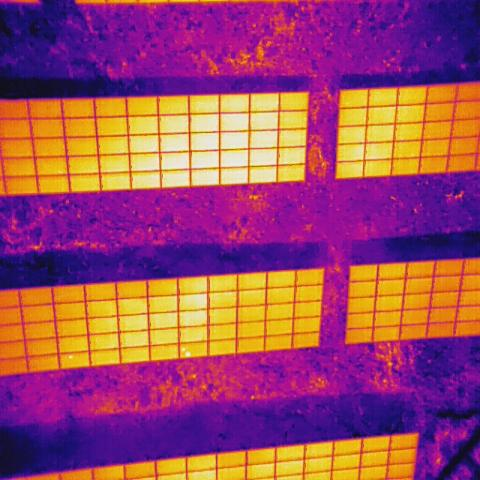fault: (64, 351, 80, 363), (180, 345, 186, 353), (184, 350, 190, 357)
